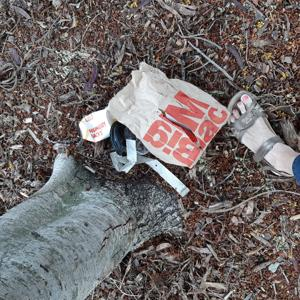cardboard: (80, 110, 117, 141)
paper: (104, 60, 231, 170), (112, 143, 193, 197)
plastic: (108, 123, 142, 165)
